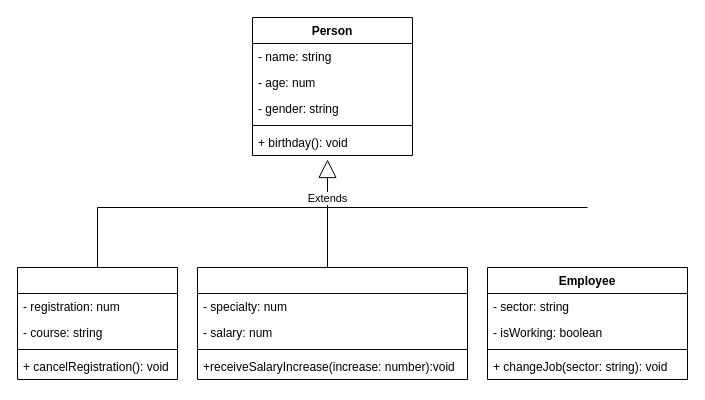
This 705x400 diagram has some shape labels left out. The shapes that lost their labels are listed below. From the top down, each one's box as (x1, y1, x2, y2) in pixels, then its label:
(16, 266, 178, 380): Student
(196, 266, 468, 380): Professor
